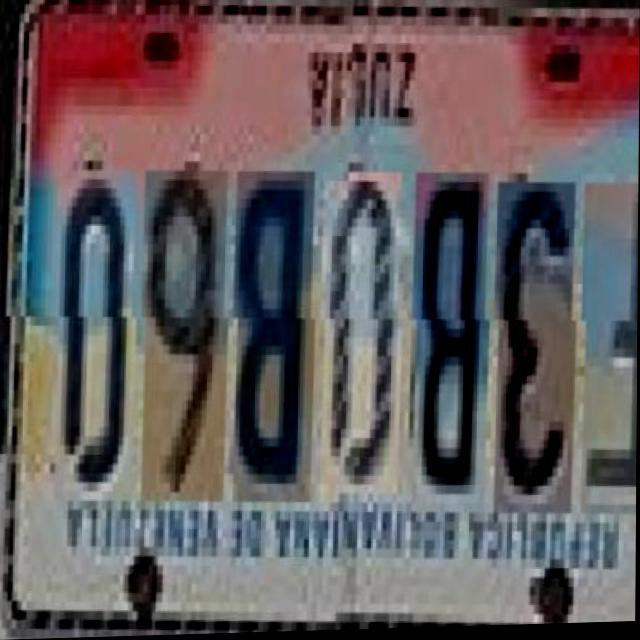0: (50, 164, 134, 500), (315, 175, 400, 501)
3: (489, 184, 574, 520)
6: (136, 164, 226, 500)
b: (228, 165, 313, 501), (405, 176, 486, 519)
f: (577, 186, 639, 522)
